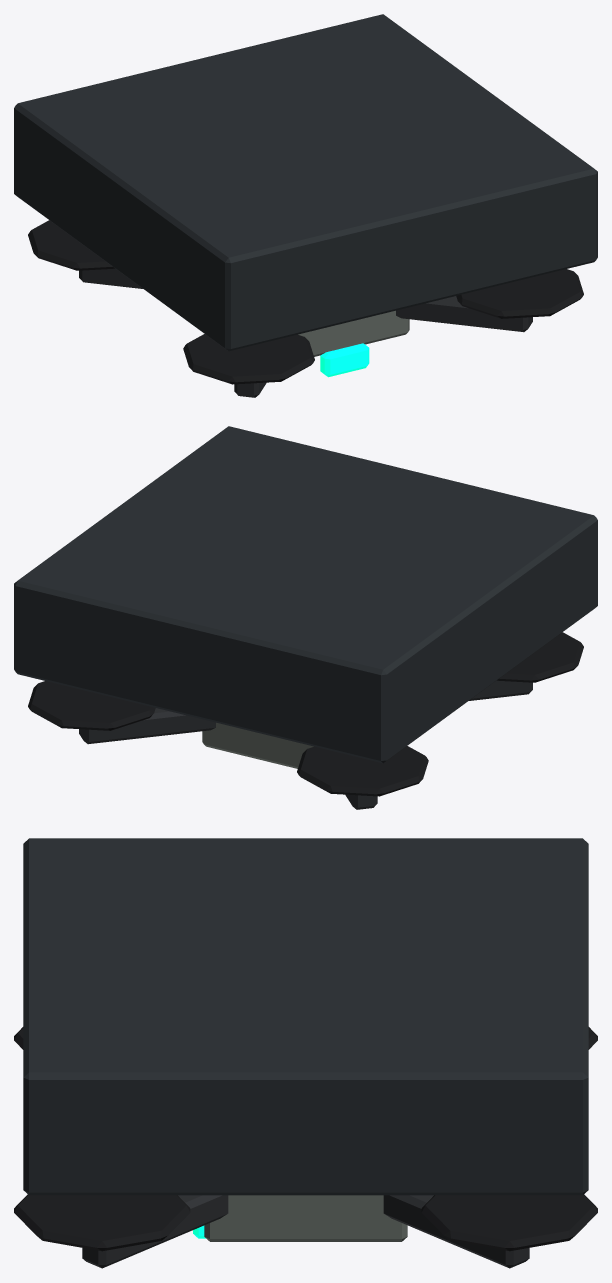
File: Utility_RepairDrone.fbx
The picture shows the model from 3 angles, top to bottom: view 1: azimuth 30°, elevation 25°; view 2: azimuth 150°, elevation 25°; view 3: azimuth 270°, elevation 25°; orthographic projection. The views are drawn at different scales.
Visible parts, largest first — view 1: Utility_RepairDrone; view 2: Utility_RepairDrone; view 3: Utility_RepairDrone.
Part boxes in pixels (x1,y1,x2,y2): Utility_RepairDrone: [14, 14, 597, 397]; Utility_RepairDrone: [14, 426, 597, 809]; Utility_RepairDrone: [14, 838, 597, 1268].
Size of the model in its own units: 0.5168 by 0.265 by 0.5168.
